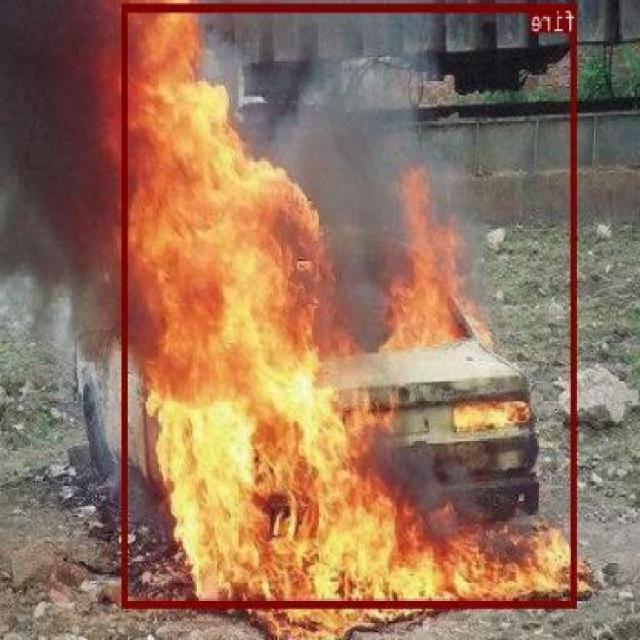Fire: (124, 2, 318, 605), (325, 175, 535, 610)
Smoke: (12, 0, 495, 382)
